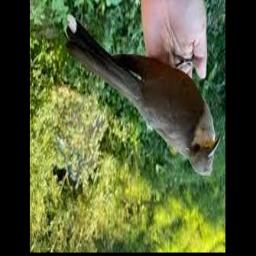Cuckoo: (66, 14, 221, 176)
